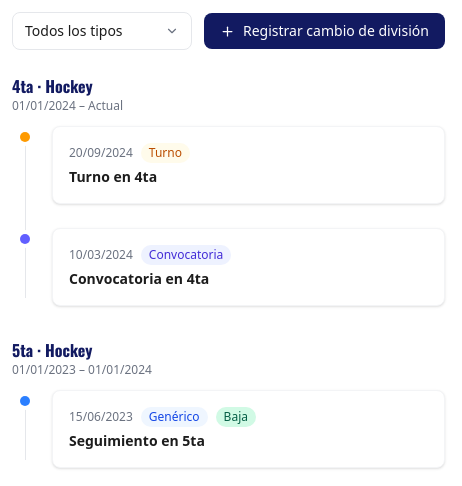
Test: TrayectoriaTimeline › el filtro por tipo oculta los eventos de otros tipos
The width and height of the screenshot is (462, 486).
Click the button "Todos los tipos".
click(102, 31)  # box [12,12,192,50]
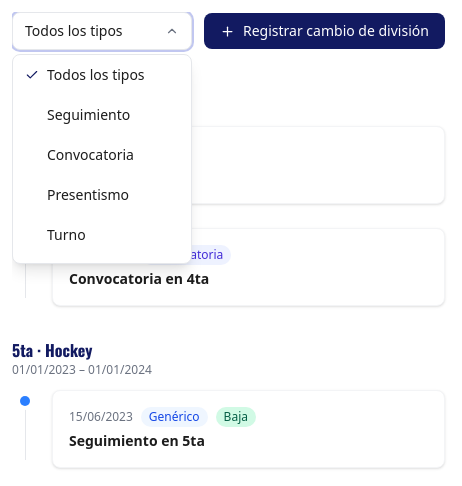
Click the button "Turno".
click(102, 235)  # box [13,215,191,255]
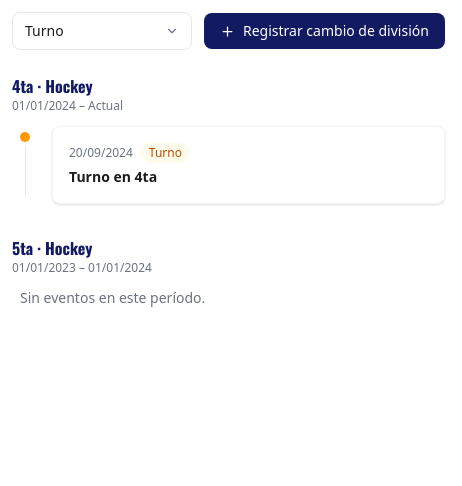
Expected: the text "Turno en 4ta" is shown, [69,167,157,186]
Now the link "Convocatoria en 4ta" is gone
Now the link "Seguimiento en 5ta" is gone
